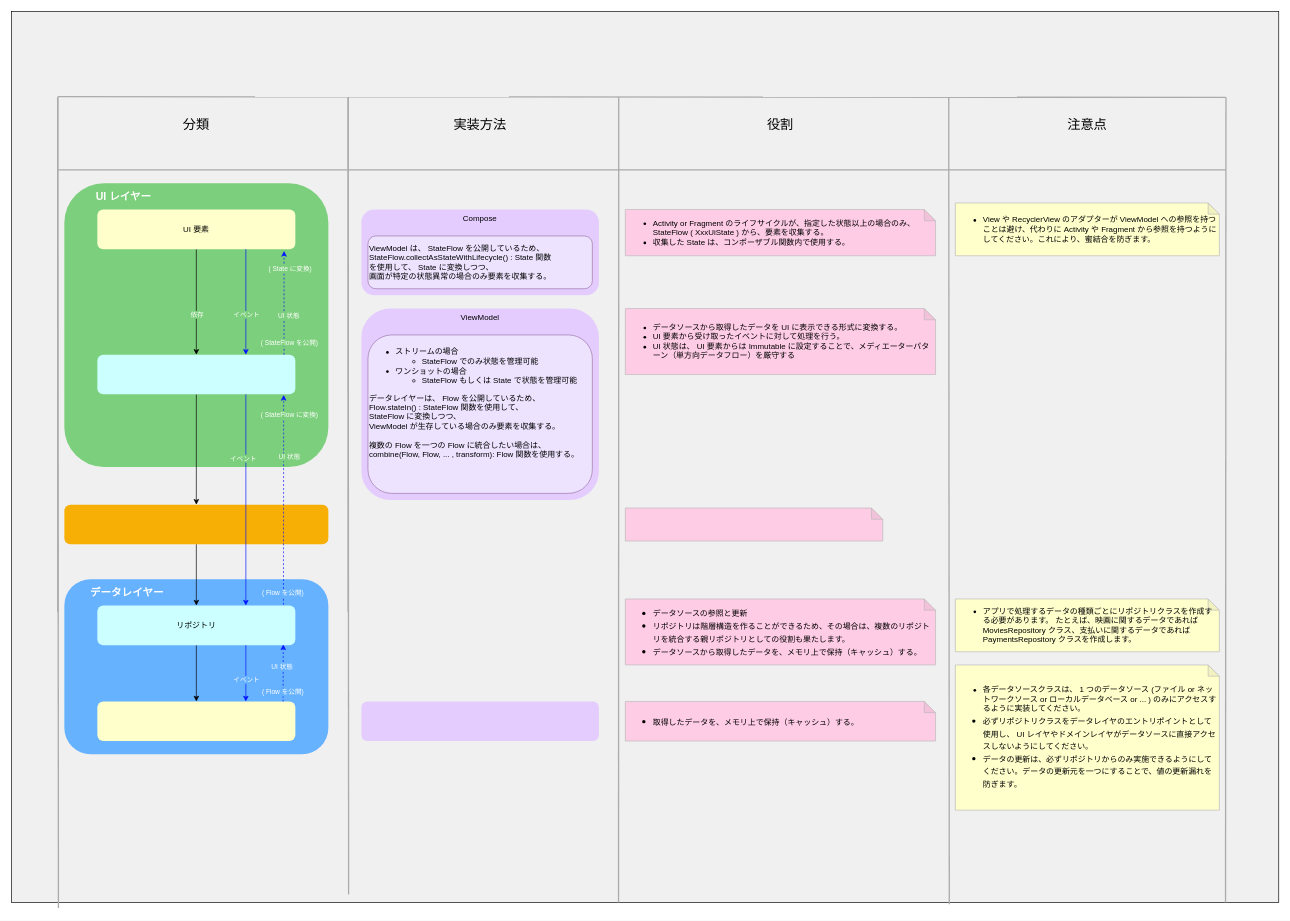
The diagram is 1290 pixels wide and 921 high, and some of its shapes have lost their labels. Here are the shapes that lost their labels. From the top down, the centre of each, then its label:
(x=196, y=374): 状態ホルダー
(x=196, y=524): ドメイン層（任意）
(x=754, y=524): ユースケースの実装（複数画面で共通の処理を統合する）
(x=196, y=721): データソース
(x=480, y=721): Dao
